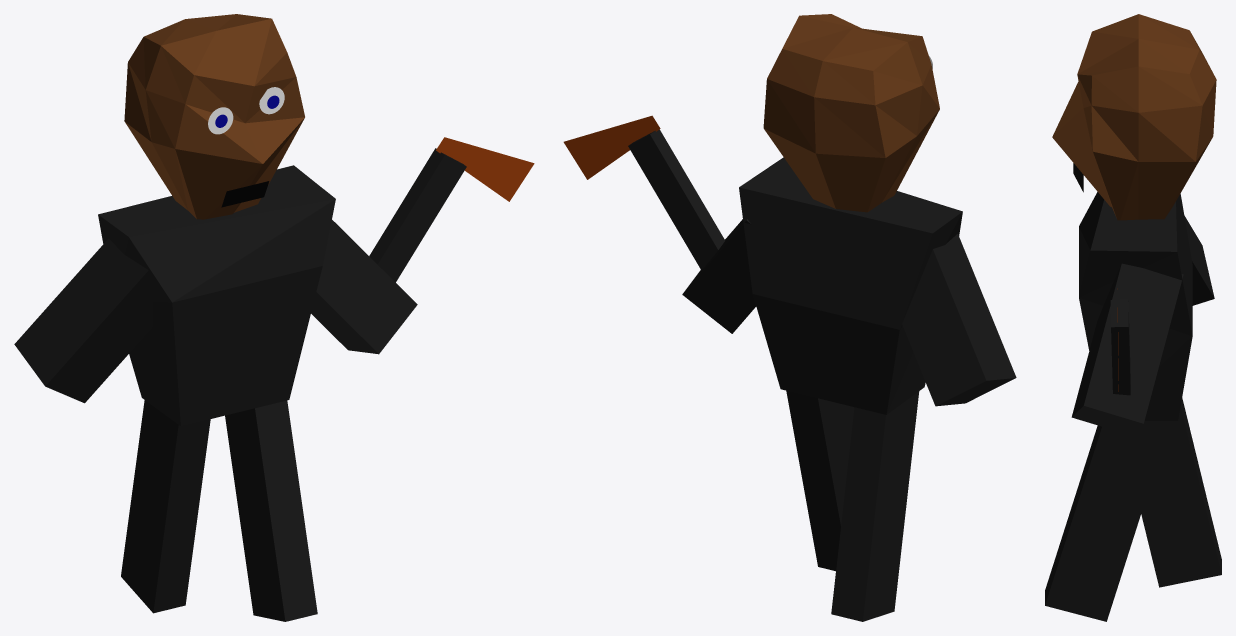
File: axeman2.obj
3 renders of one model, left to right at view 1: azimuth 30°, elevation 25°; view 2: azimuth 150°, elevation 25°; view 3: azimuth 270°, elevation 25°, orthographic. The views are drawn at different scales.
Visible parts, largest first — view 1: Cube.001, Cube, Cube.005, Cube.003, Cube.004, Cube.002, Cube.007, Plane.001; view 2: Cube.001, Cube, Cube.004, Cube.003, Cube.005, Cube.007, Cube.002, Plane.001; view 3: Cube, Cube.005, Cube.001, Cube.002, Cube.004, Cube.007, Cube.003.
Boxes of the visible parts, x1,y1,x2,y2 form: Cube.001: (98,165,335,426); Cube: (124,14,304,219); Cube.005: (225,400,317,621); Cube.003: (14,238,152,403); Cube.004: (121,400,210,613); Cube.002: (311,220,417,354); Cube.007: (369,148,466,282); Plane.001: (436,137,534,201); Cube.001: (739,157,962,414); Cube: (763,14,939,212); Cube.004: (831,391,919,621); Cube.003: (902,234,1016,406); Cube.005: (786,390,854,571); Cube.007: (628,129,725,270); Cube.002: (682,219,756,333); Plane.001: (563,115,660,179); Cube: (1052,14,1216,220); Cube.005: (1045,421,1170,621); Cube.001: (1079,192,1192,420); Cube.002: (1071,263,1183,435); Cube.004: (1141,398,1221,587); Cube.007: (1110,299,1130,395); Cube.003: (1184,215,1214,305).
Size of the model in its own units: 5.1 by 5.9 by 1.69.
